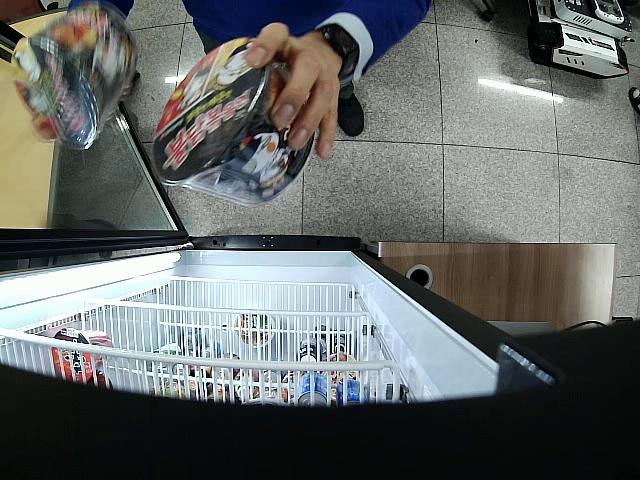00_hand: (245, 23, 341, 161)
07_buldak_L: (153, 38, 315, 207), (11, 0, 136, 149)
